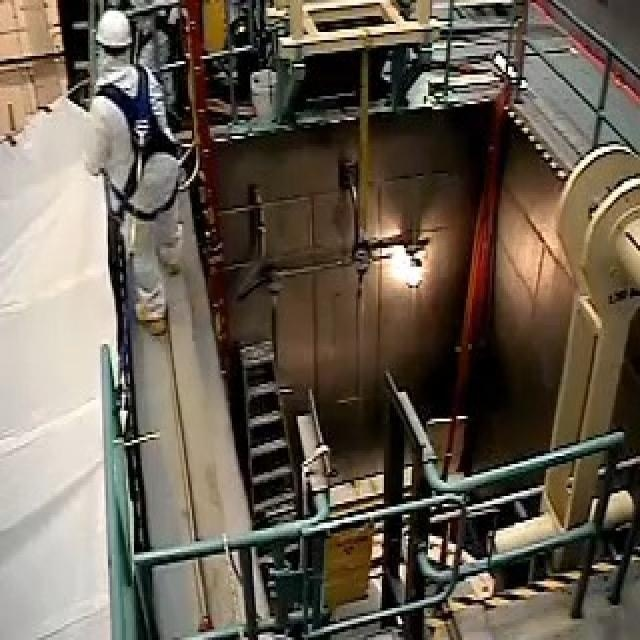Arnes_seguridad: (82, 62, 188, 226)
